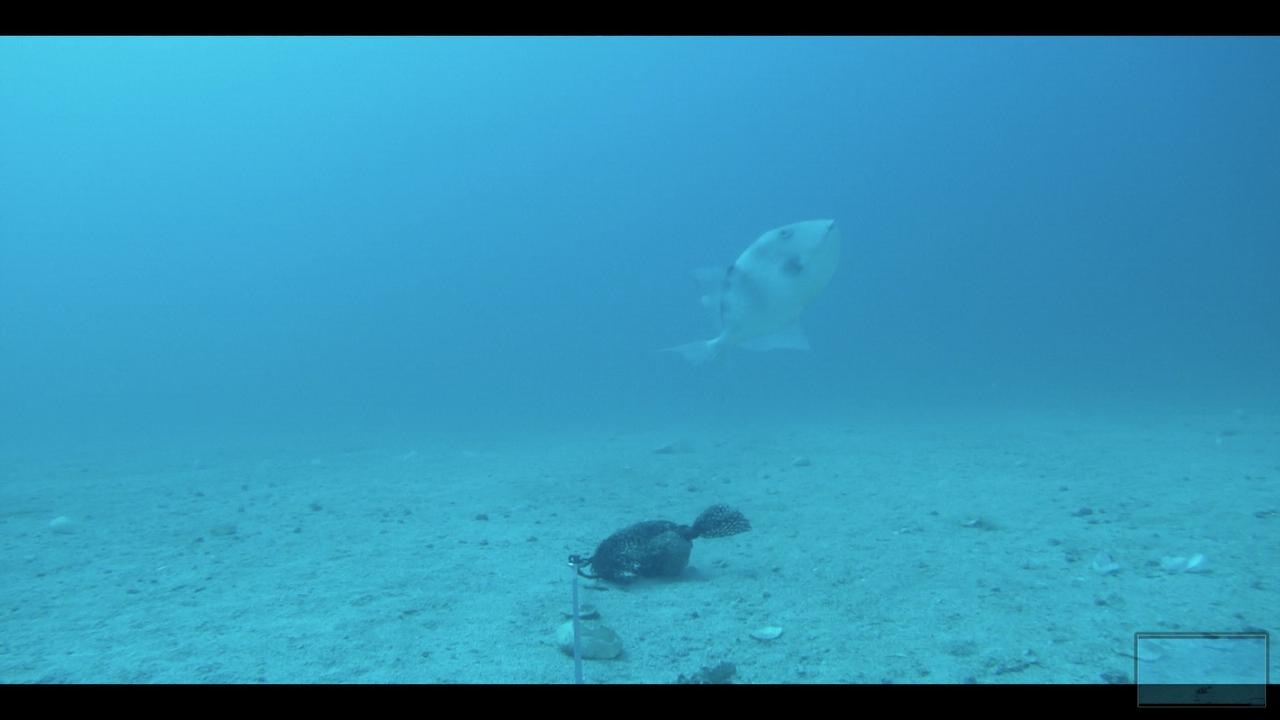balistes: (648, 204, 845, 409)
